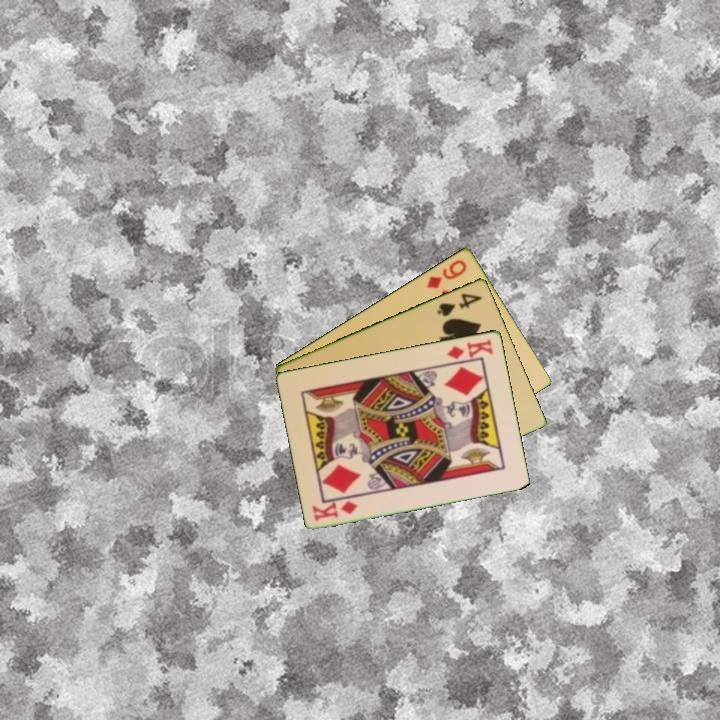4s: (433, 289, 485, 319)
9d: (423, 256, 470, 291)
Kd: (444, 335, 496, 362), (309, 497, 361, 523)
